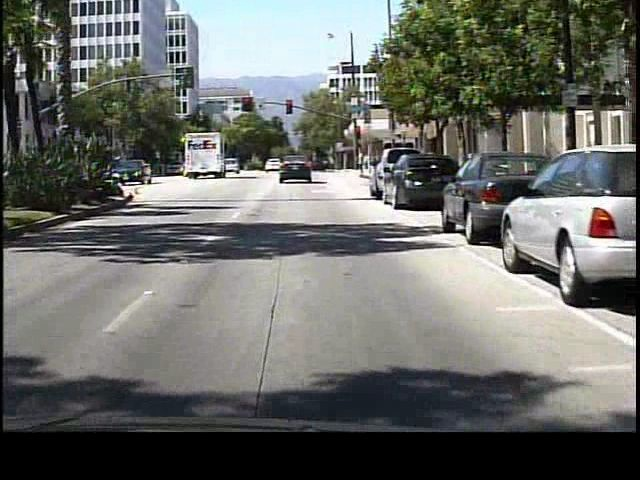person: (354, 146, 368, 177)
